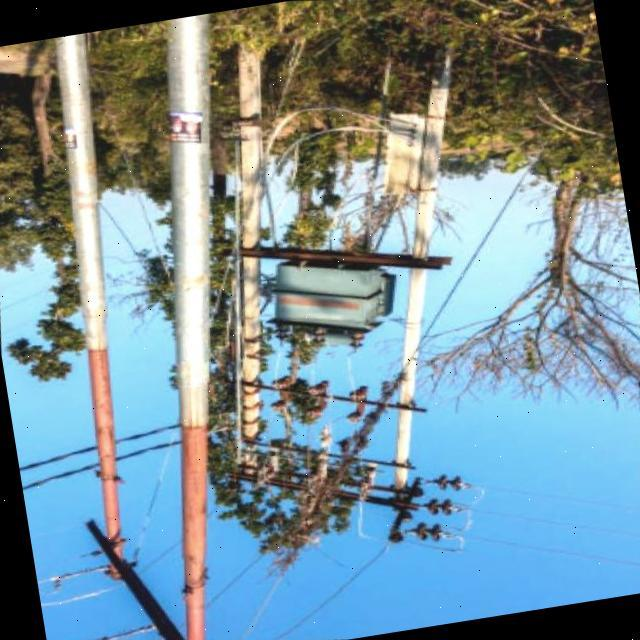critical vegetation: (151, 164, 512, 601)
